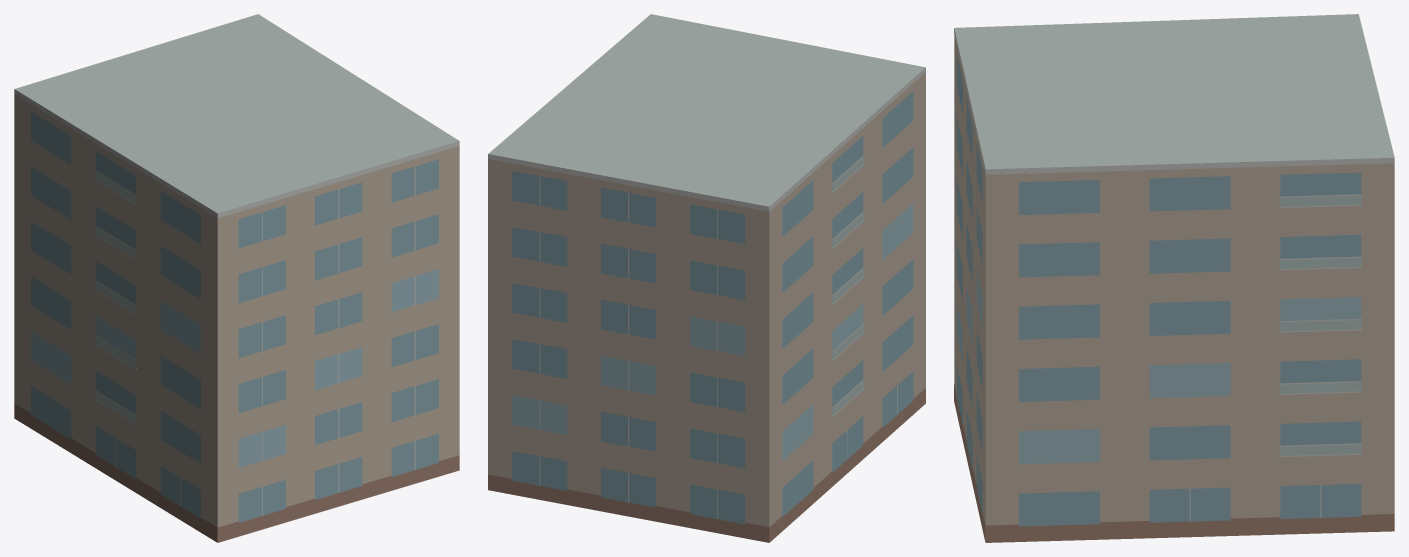
The model's file is survey-upis-32908814.glb.
The picture shows the model from 3 angles, left to right: view 1: azimuth 30°, elevation 25°; view 2: azimuth 150°, elevation 25°; view 3: azimuth 270°, elevation 25°; orthographic projection. The views are drawn at different scales.
Visible parts, largest first — view 1: survey-upis-32908814.tmp; view 2: survey-upis-32908814.tmp; view 3: survey-upis-32908814.tmp.
Part boxes in pixels (x1,y1,x2,y2): survey-upis-32908814.tmp: (14,14,459,542); survey-upis-32908814.tmp: (488,14,925,542); survey-upis-32908814.tmp: (954,14,1394,542).
Size of the model in its own units: 14.81 by 16.6 by 17.75.
